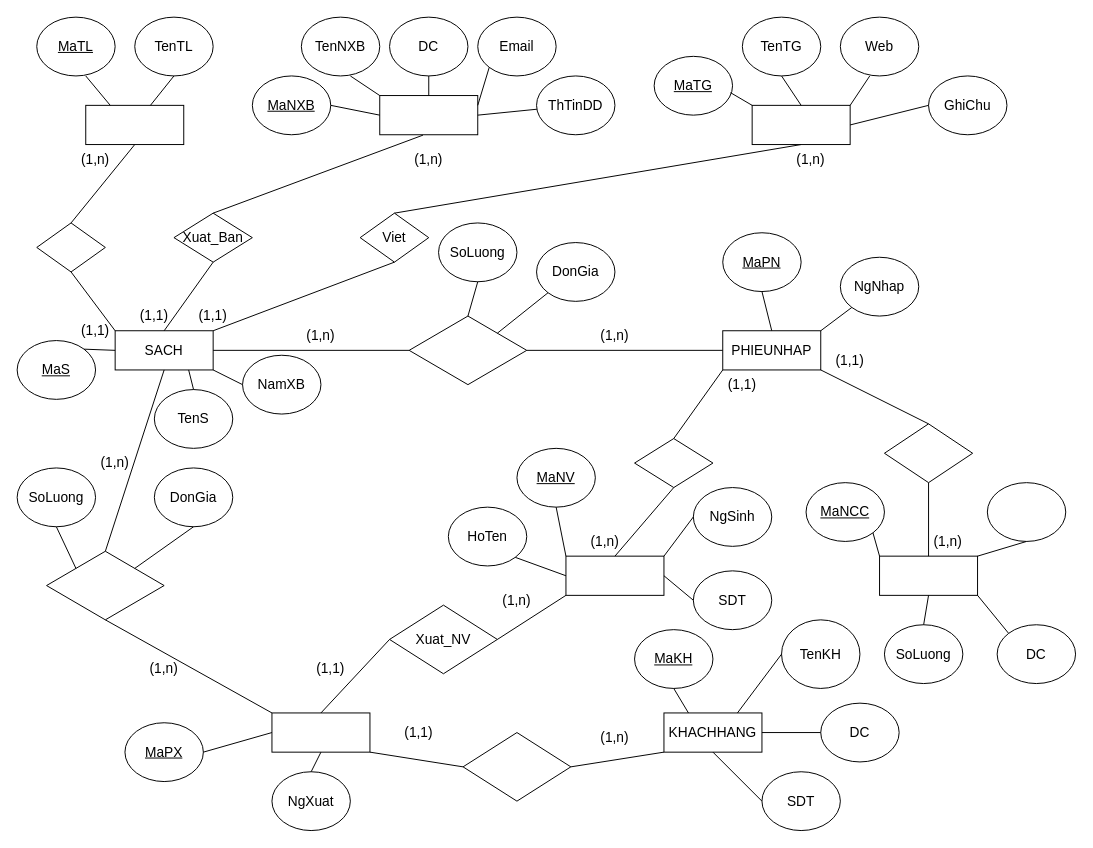
This 1093x848 diagram has some shape labels left out. The centre of each missing label's shape, as x and y in pixels:
CHITIETPN: pixel 467 350
CHITIETPX: pixel 105 585
Cung_Cap: pixel 928 453
NCC: pixel 928 575
NHANVIEN: pixel 614 575
Nhap: pixel 673 463
NXB: pixel 428 115
PHIEUXUAT: pixel 320 732
TACGIA: pixel 800 124
TenNCC: pixel 1026 511
THELOAI: pixel 134 124
Thuoc: pixel 70 247
Xuat_KH: pixel 516 766
